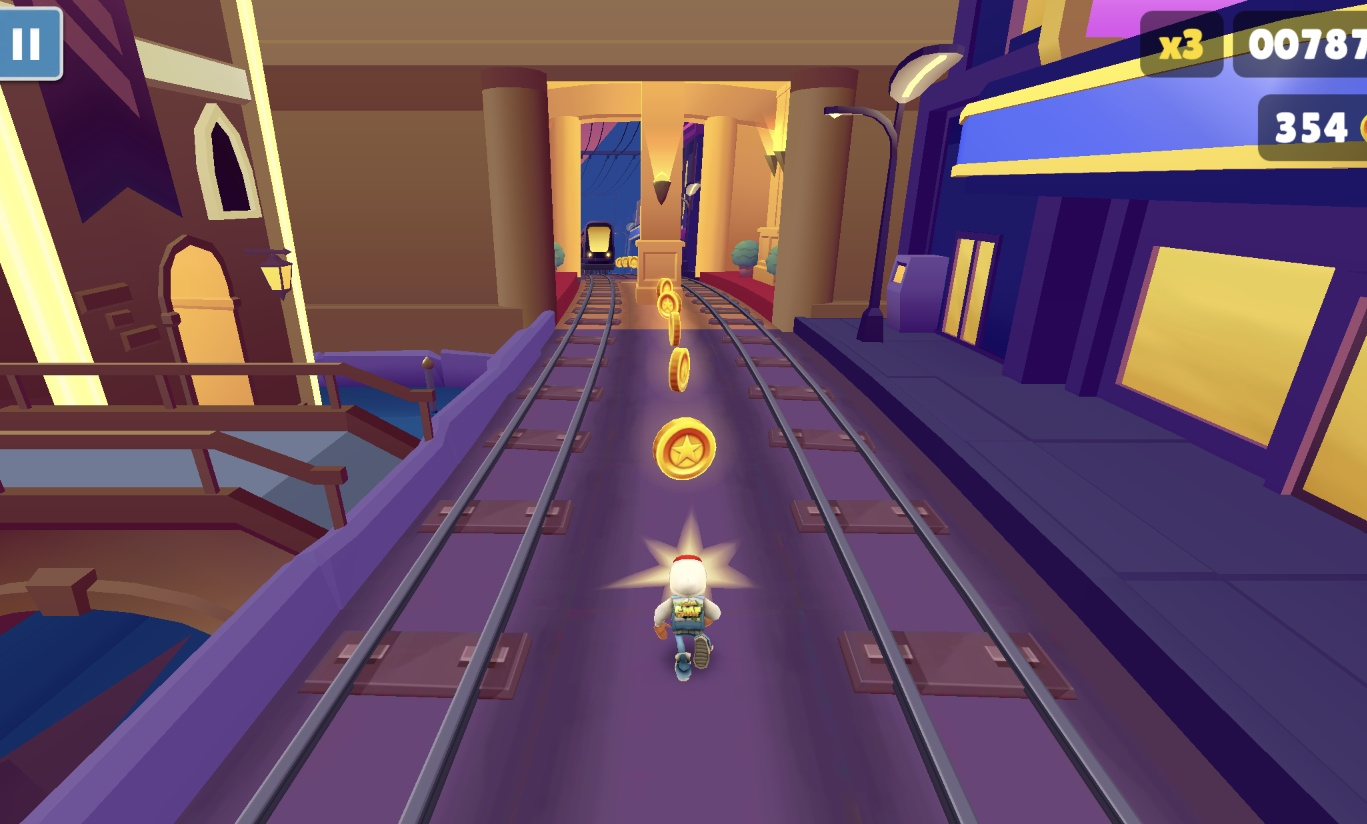pillar: (635, 81, 685, 304)
train: (582, 220, 614, 274)
